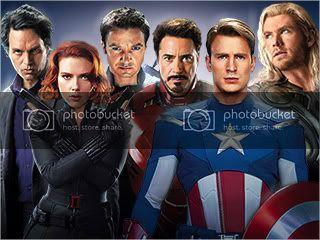bad: (208, 46, 252, 89), (103, 36, 146, 79), (156, 46, 199, 89), (256, 22, 299, 65), (55, 65, 98, 108), (9, 42, 45, 78)
